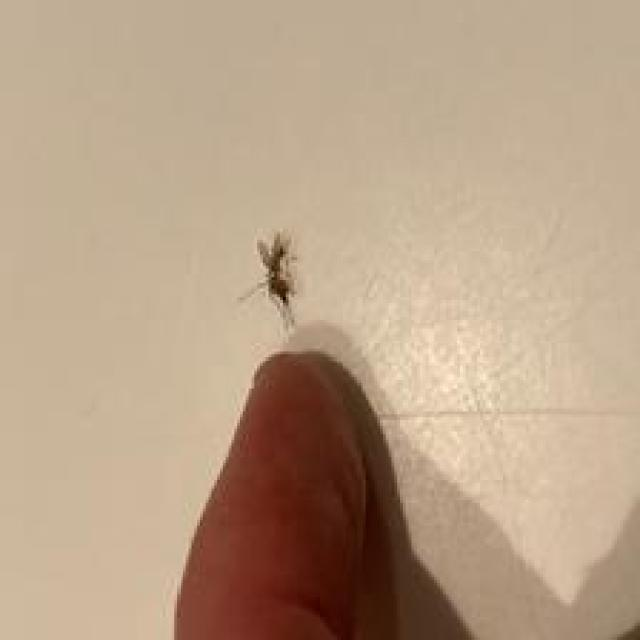Culex: (237, 227, 303, 333)
